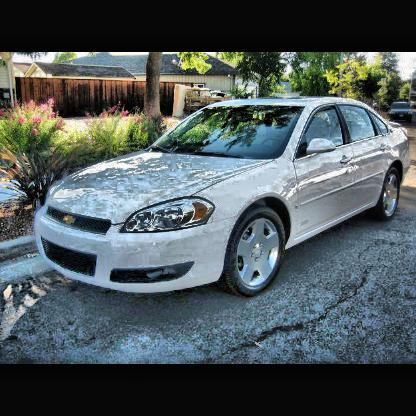Chevrolet Impala Sedan 2007: (35, 98, 412, 299)
